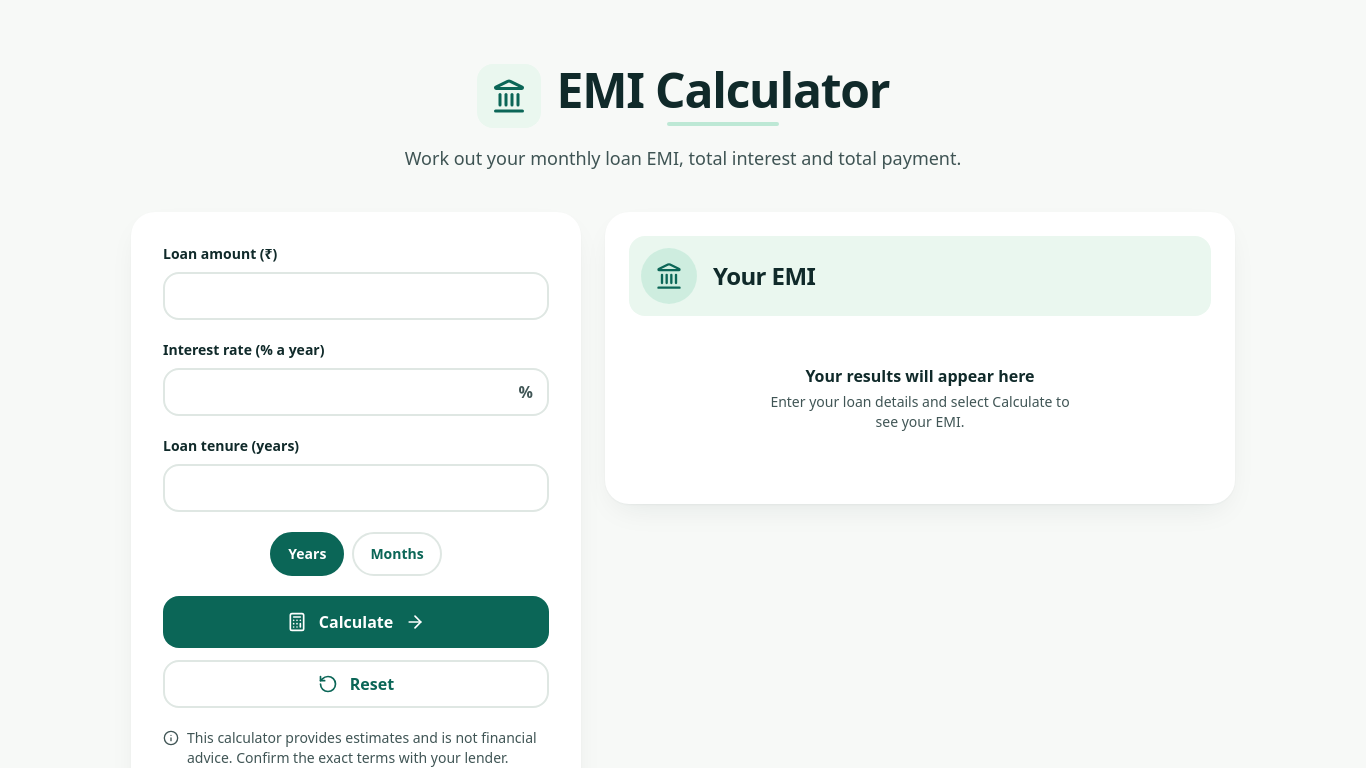
Scenario: EMI Calculator › shows results and moves focus to them
Expected: the text "Your results will appear here" is shown, [805,365,1035,387]
Type "1000000" into the field labelled "Loan amount (₹)" at (356, 296), box [163,272,549,320]
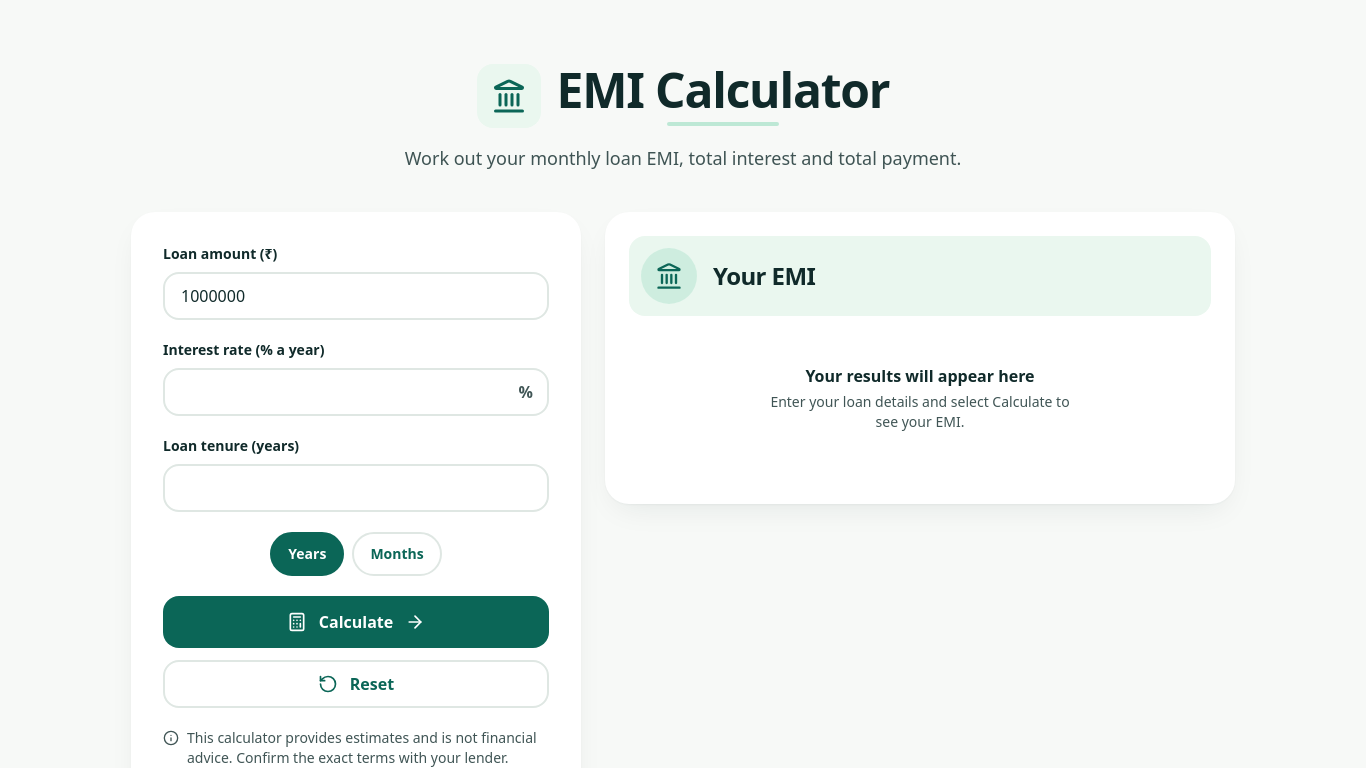
Type "8.5" into the field labelled "Interest rate (% a year)" at (356, 392), box [163,368,549,416]
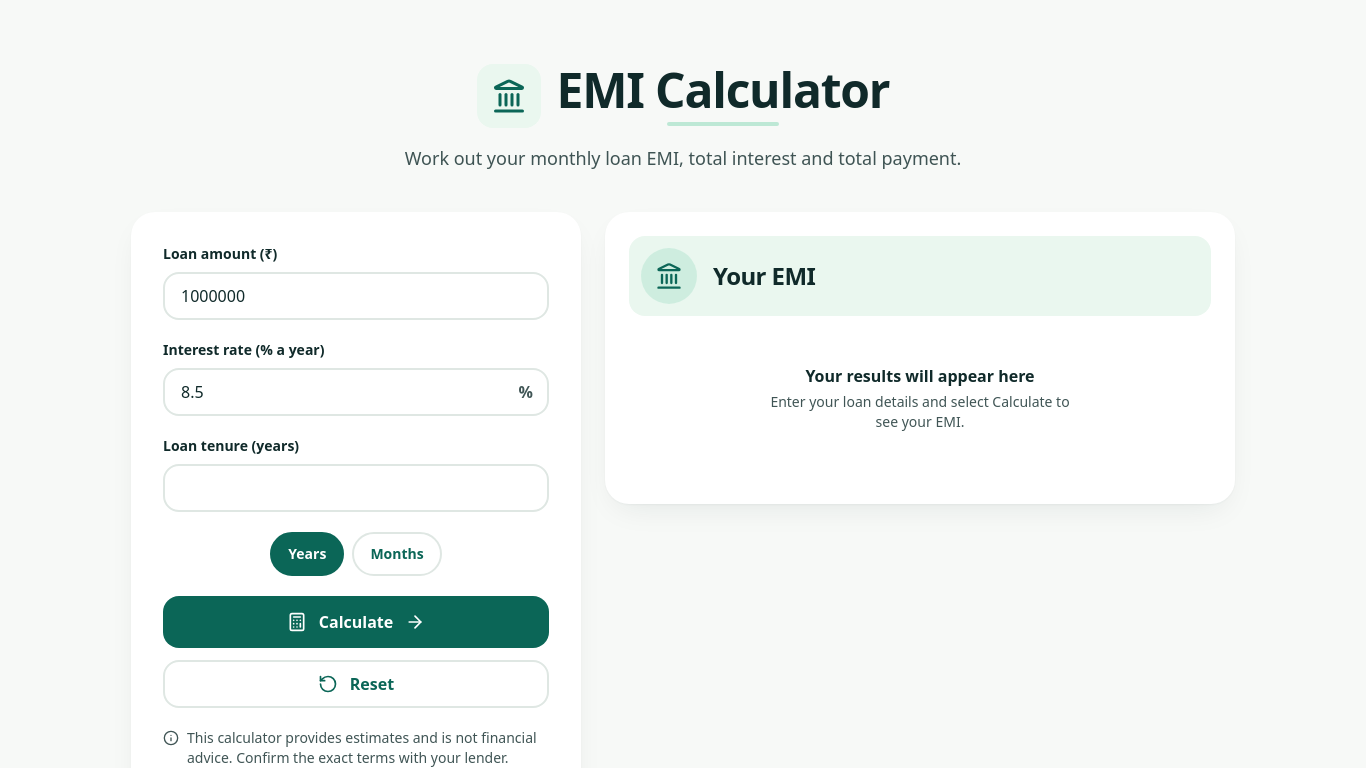
Type "20" into the field labelled "Loan tenure (years)" at (356, 488), box [163,464,549,512]
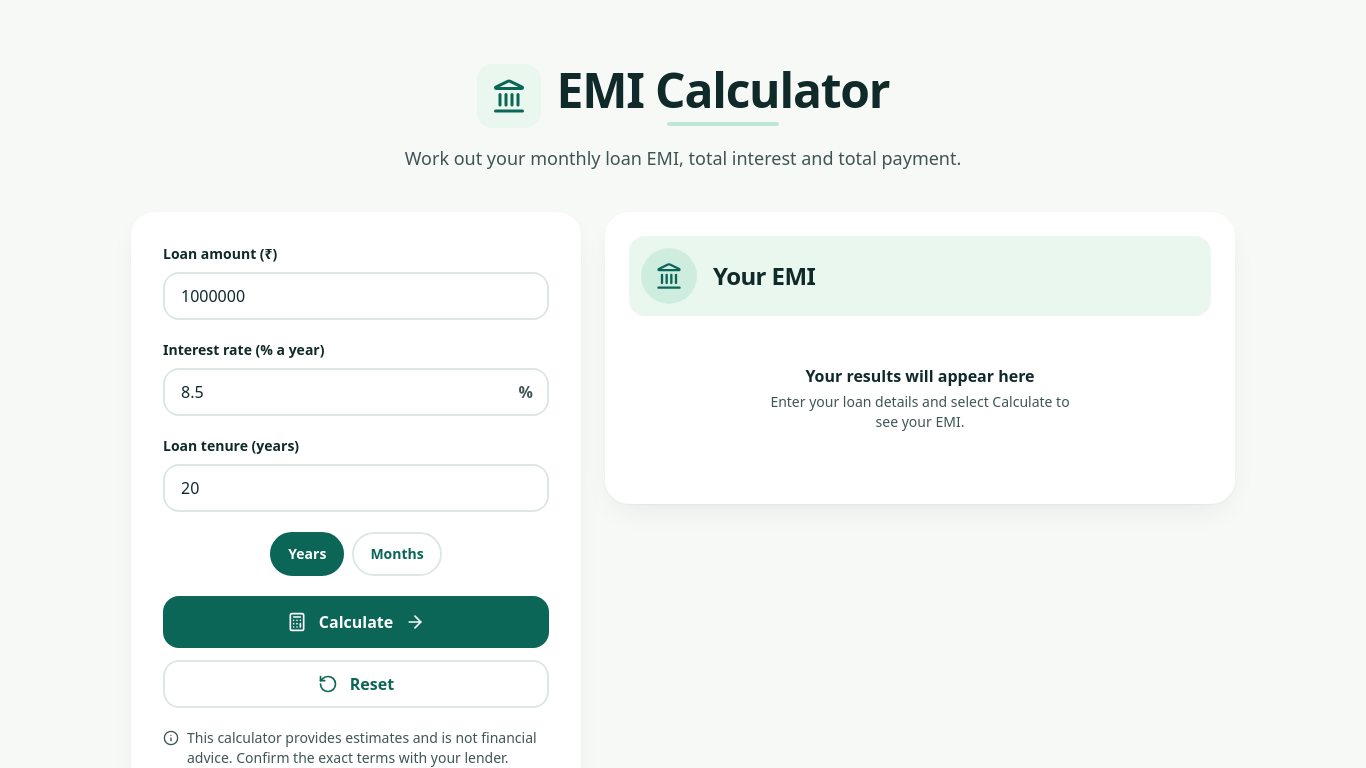
Click the button "Calculate" at (356, 622), box [163,596,549,648]
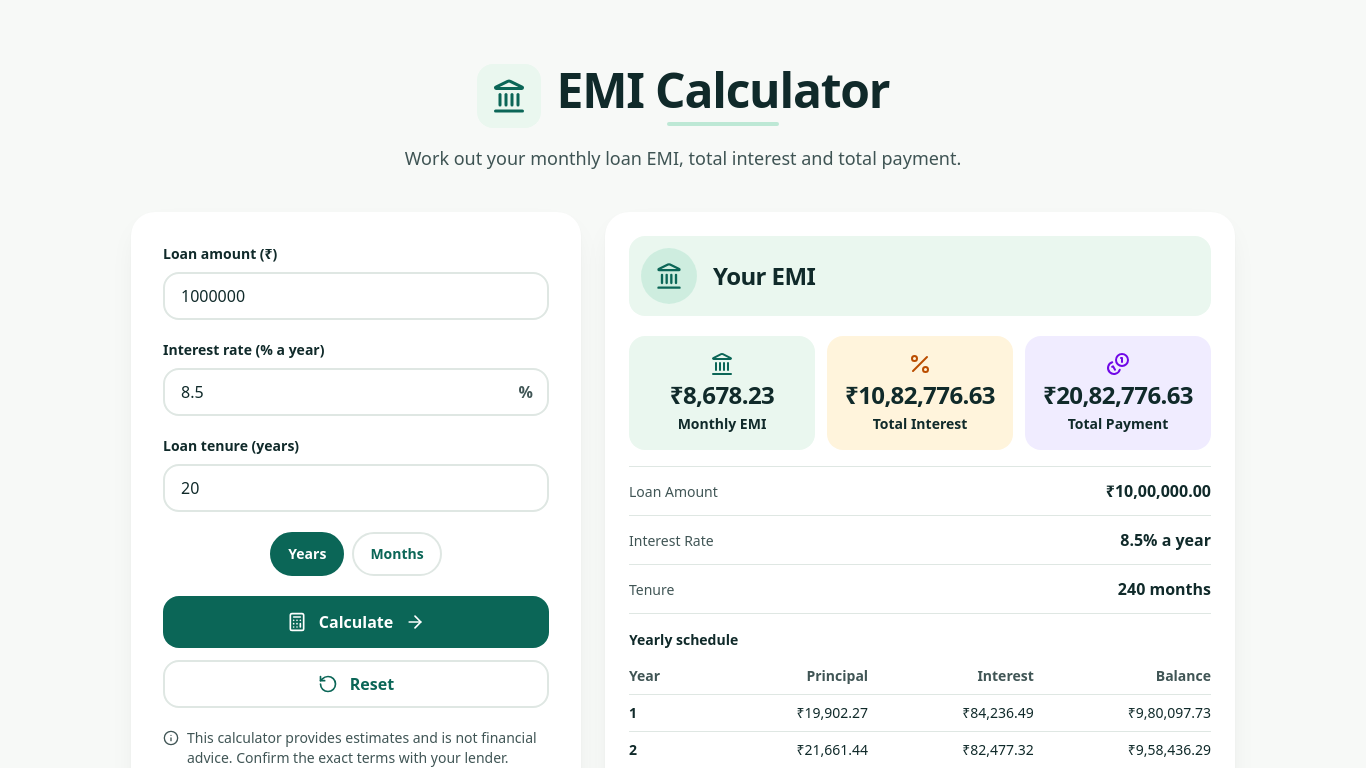
Expected: the text "₹8,678.23" is shown, [670,378,774,411]
Expected: the number of rows is 21
